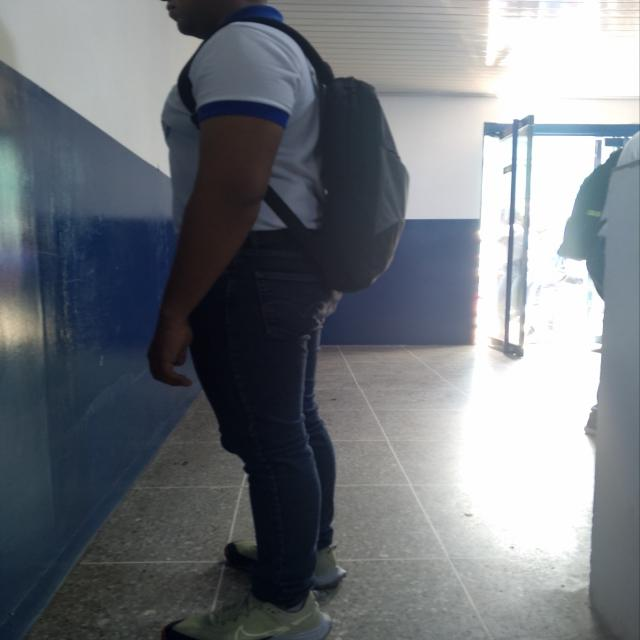pantalon_oscuro: (186, 253, 337, 610)
uniforme_superior: (160, 4, 328, 235)
